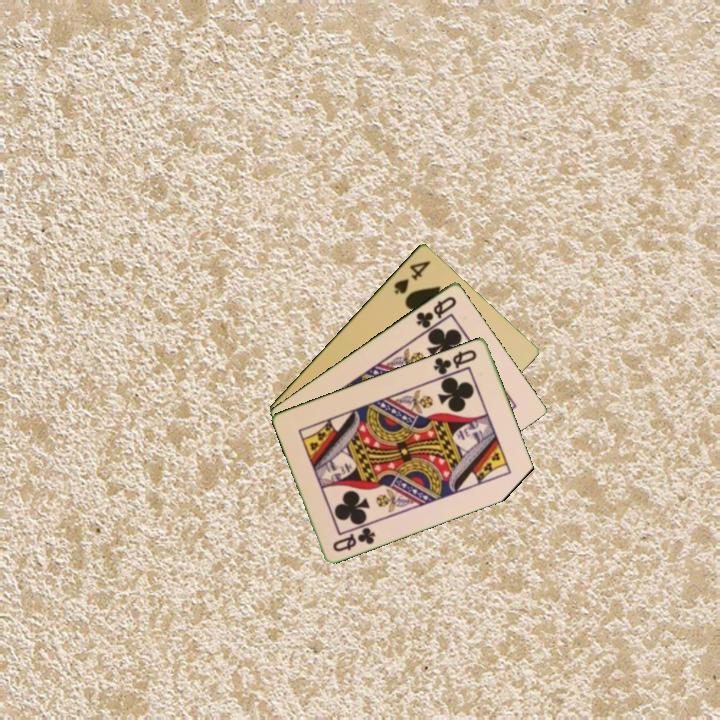4s: (390, 257, 434, 296)
Qc: (412, 292, 460, 331), (430, 346, 480, 378), (329, 523, 379, 555)
